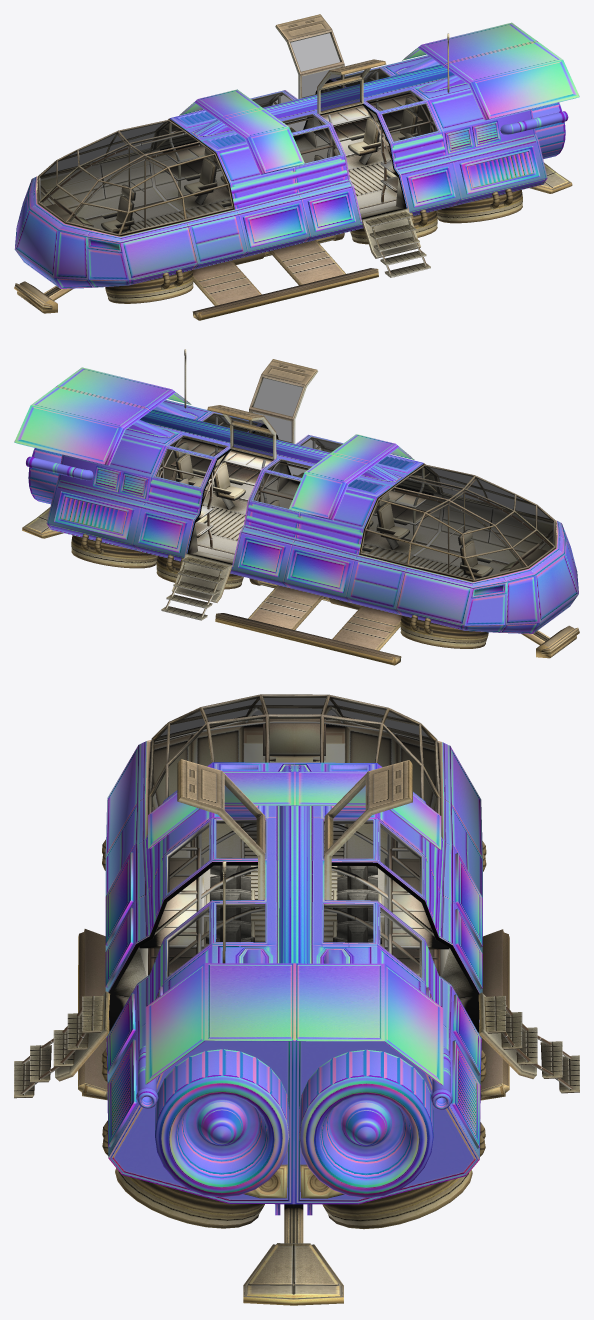
File: transport_shuttle.obj
3 views of the same model, one above another, from view 1: azimuth 30°, elevation 25°; view 2: azimuth 150°, elevation 25°; view 3: azimuth 270°, elevation 25° (orthographic). The views are drawn at different scales.
Parts seen in each view (by area): view 1: Shuttle.002_Cube.006, Shuttle.000_Cube.002, Shuttle.013_Cube.012, Shuttle.009_Cube.008, Shuttle.010_Cube.009, Shuttle.011_Cube.010, Shuttle.015_Cube.014, Shuttle.008_Cube.007, Shuttle.012_Cube.011, Shuttle.024_Cube.032; view 2: Shuttle.002_Cube.006, Shuttle.000_Cube.002, Shuttle.013_Cube.012, Shuttle.009_Cube.008, Shuttle.010_Cube.009, Shuttle.011_Cube.010, Shuttle.015_Cube.014, Shuttle.008_Cube.007, Shuttle.012_Cube.011, Shuttle.024_Cube.032; view 3: Shuttle.002_Cube.006, Shuttle.024_Cube.032, Shuttle.000_Cube.002, Shuttle.013_Cube.012, Shuttle.010_Cube.009, Shuttle.009_Cube.008, Shuttle.015_Cube.014, Shuttle.011_Cube.010, Shuttle.008_Cube.007, Shuttle.012_Cube.011.
Boxes of the visible parts, x1,y1,x2,y2 form: Shuttle.002_Cube.006: (14, 22, 579, 288); Shuttle.000_Cube.002: (39, 32, 437, 249); Shuttle.013_Cube.012: (36, 68, 438, 236); Shuttle.009_Cube.008: (14, 162, 572, 320); Shuttle.010_Cube.009: (275, 14, 449, 277); Shuttle.011_Cube.010: (42, 72, 434, 274); Shuttle.015_Cube.014: (105, 188, 522, 303); Shuttle.008_Cube.007: (37, 119, 233, 236); Shuttle.012_Cube.011: (101, 97, 419, 233); Shuttle.024_Cube.032: (500, 102, 568, 158); Shuttle.002_Cube.006: (14, 367, 578, 633); Shuttle.000_Cube.002: (156, 377, 554, 594); Shuttle.013_Cube.012: (155, 413, 557, 582); Shuttle.009_Cube.008: (22, 507, 579, 665); Shuttle.010_Cube.009: (161, 349, 317, 620); Shuttle.011_Cube.010: (158, 417, 551, 617); Shuttle.015_Cube.014: (71, 534, 488, 648); Shuttle.008_Cube.007: (359, 464, 555, 581); Shuttle.012_Cube.011: (174, 442, 493, 578); Shuttle.024_Cube.032: (26, 448, 93, 504); Shuttle.002_Cube.006: (105, 741, 482, 1215); Shuttle.024_Cube.032: (136, 1045, 452, 1197); Shuttle.000_Cube.002: (150, 695, 438, 976); Shuttle.013_Cube.012: (109, 718, 479, 1032); Shuttle.010_Cube.009: (14, 759, 579, 1198); Shuttle.009_Cube.008: (78, 929, 509, 1305); Shuttle.015_Cube.014: (101, 839, 486, 1229); Shuttle.011_Cube.010: (20, 706, 573, 1093); Shuttle.008_Cube.007: (148, 694, 440, 814); Shuttle.012_Cube.011: (206, 857, 381, 944).
Size of the model in its own units: 13.32 by 4.6 by 7.
